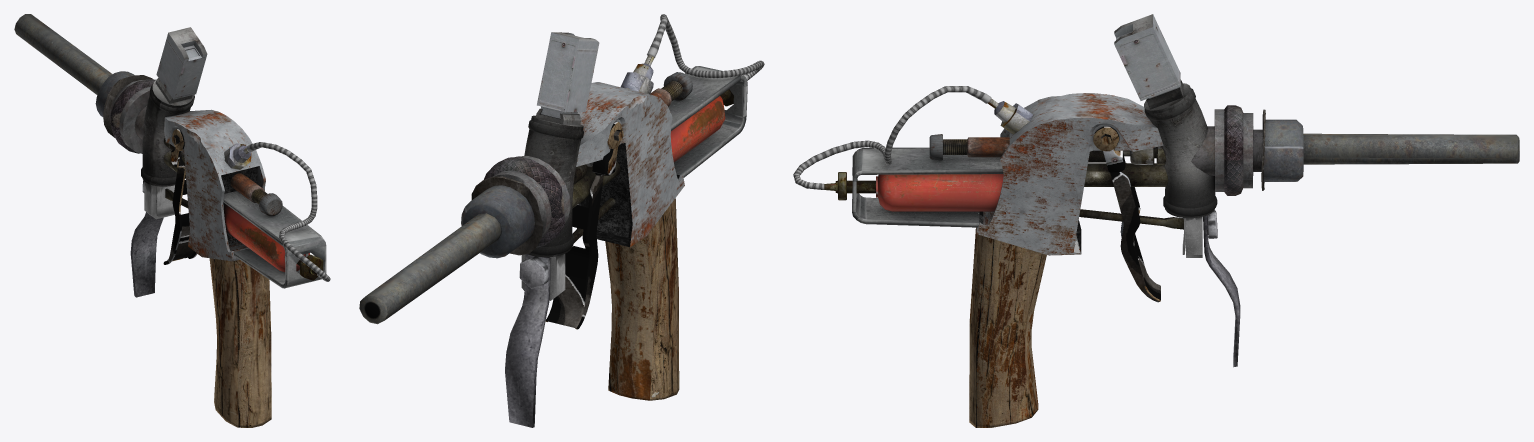
The model's file is pneumo_pistol.fbx.
3 renders of one model, left to right at view 1: azimuth 30°, elevation 25°; view 2: azimuth 150°, elevation 25°; view 3: azimuth 270°, elevation 25°, orthographic. The views are drawn at different scales.
Parts seen in each view (by area): view 1: main, magazine, trigger; view 2: main, trigger, magazine; view 3: main, magazine, trigger.
Part boxes in pixels (x1,y1,x2,y2): main: [14, 14, 330, 427]; magazine: [156, 27, 207, 99]; trigger: [163, 128, 197, 264]; main: [359, 14, 764, 427]; trigger: [545, 121, 623, 329]; magazine: [537, 32, 599, 118]; main: [793, 79, 1519, 427]; magazine: [1114, 14, 1180, 100]; trigger: [1093, 126, 1160, 302].
Bounding box in the file's own units: 45.3 × 220 × 364.
2 materials, 2 textured.
